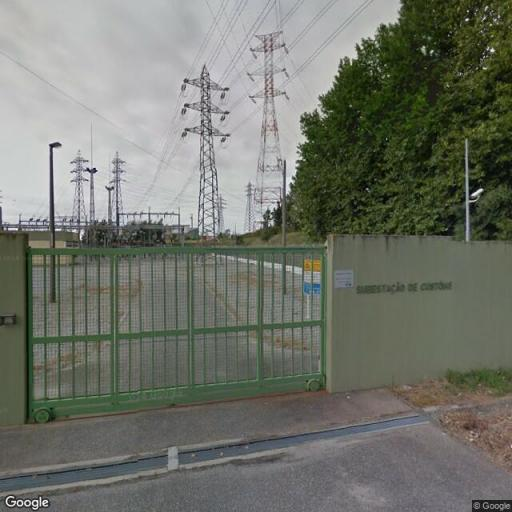ss_3: (181, 60, 232, 234), (248, 27, 294, 209), (110, 149, 130, 225), (70, 146, 88, 220), (242, 180, 256, 234), (212, 193, 226, 235)
